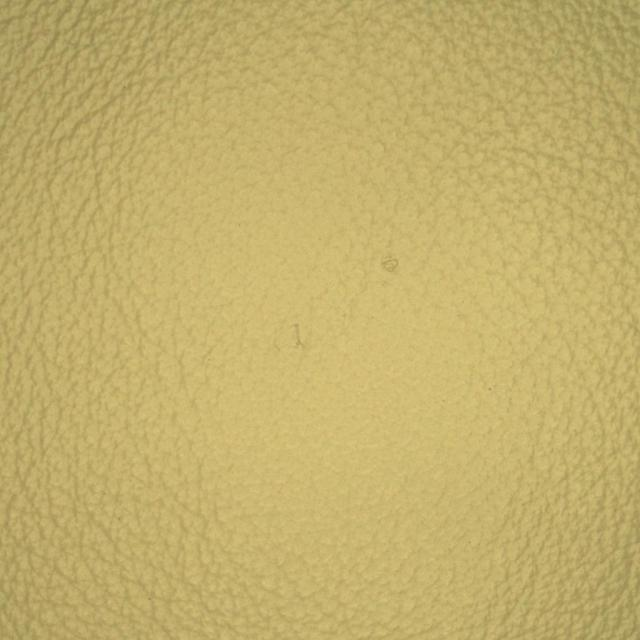Bacterial Injury: (253, 262, 353, 408), (328, 227, 449, 300)
